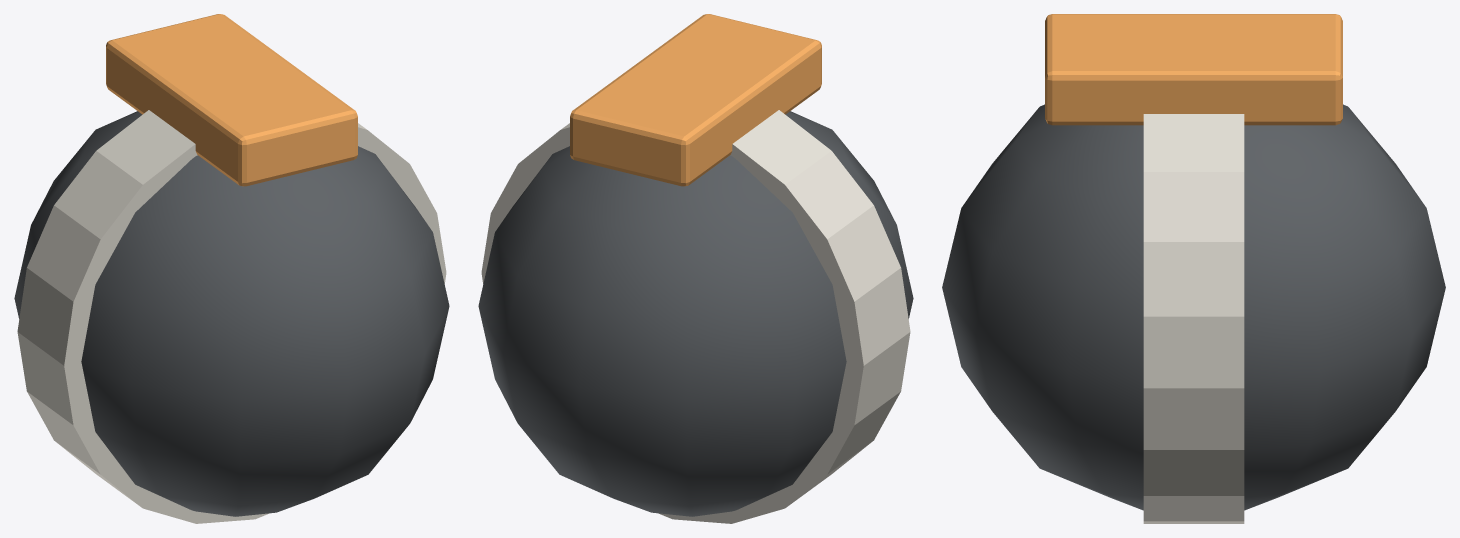
File: Grenade.fbx
The picture shows the model from 3 angles, left to right: view 1: azimuth 30°, elevation 25°; view 2: azimuth 150°, elevation 25°; view 3: azimuth 270°, elevation 25°; orthographic projection. The views are drawn at different scales.
Parts seen in each view (by area): view 1: Core, GripBand, FuseTab; view 2: Core, GripBand, FuseTab; view 3: Core, GripBand, FuseTab.
Boxes of the visible parts, x1,y1,x2,y2 form: Core: (14, 111, 449, 516); GripBand: (17, 110, 446, 523); FuseTab: (106, 14, 357, 186); Core: (478, 111, 913, 516); GripBand: (481, 110, 910, 523); FuseTab: (570, 14, 821, 186); Core: (942, 104, 1445, 510); GripBand: (1143, 114, 1244, 523); FuseTab: (1045, 14, 1342, 125).
Bounding box in the file's own units: 0.208 × 0.222 × 0.22.
